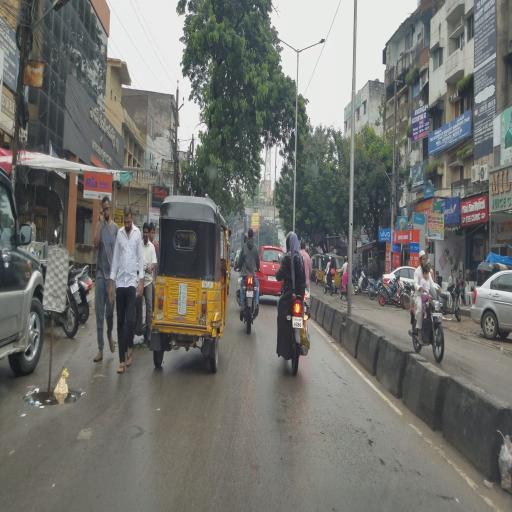street_light_0: (296, 26, 326, 64), (272, 25, 297, 63)
